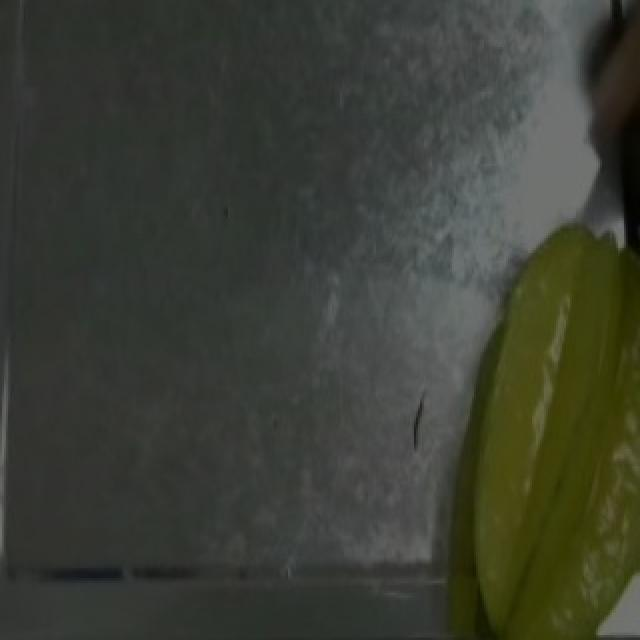fruit: (460, 198, 640, 546)
